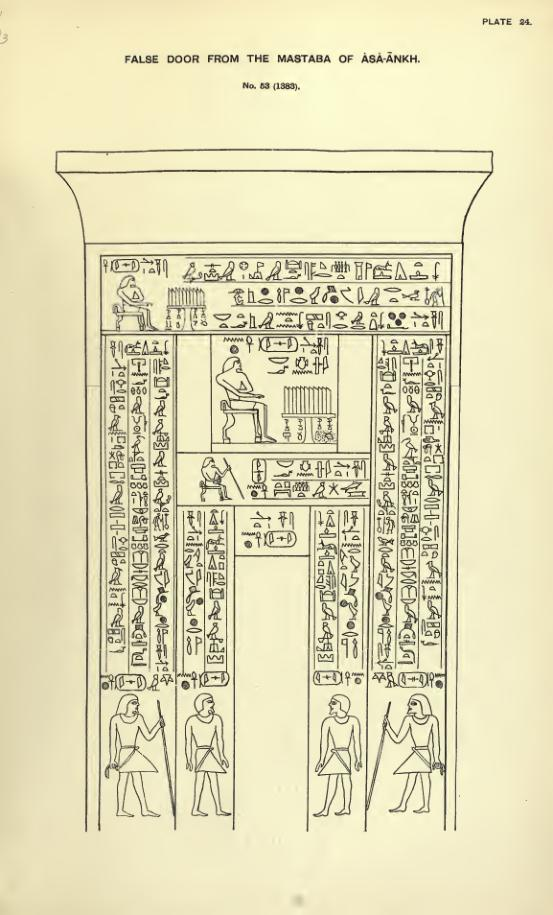circle: (395, 668, 432, 692), (257, 334, 300, 354), (262, 528, 298, 551), (113, 672, 147, 693), (198, 669, 231, 688), (311, 669, 345, 687), (109, 256, 141, 275), (251, 456, 270, 485)
